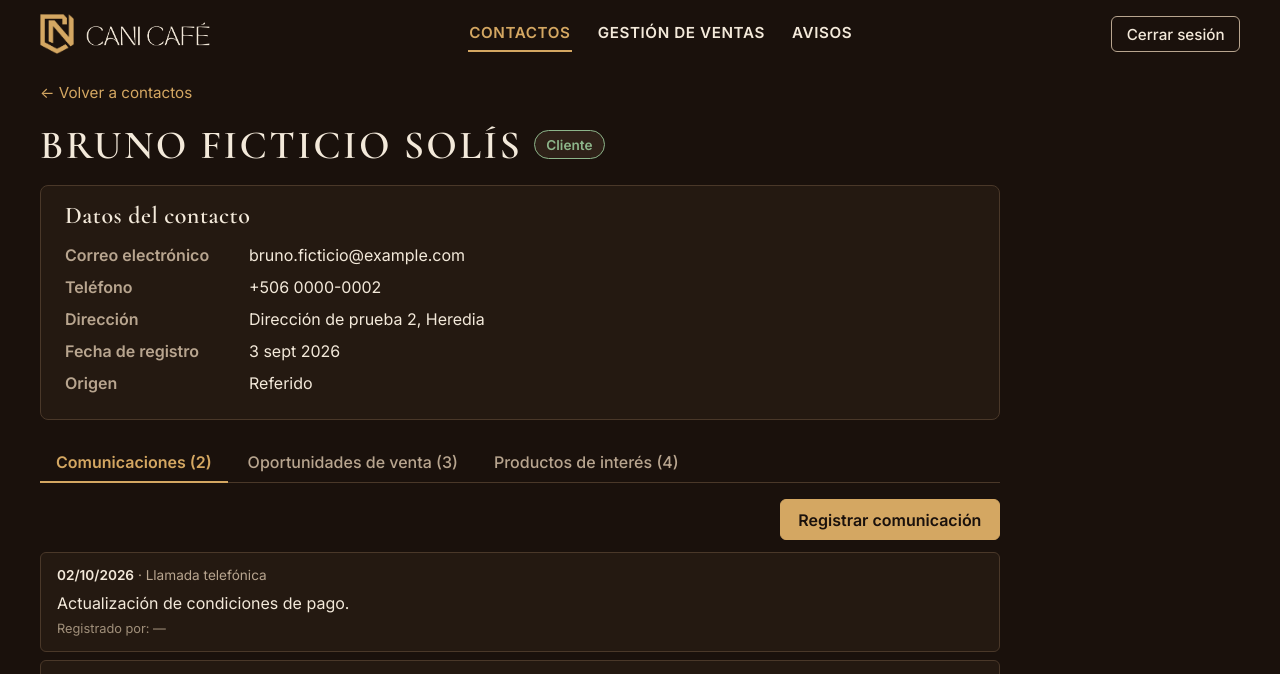
HU-207 Consultar la ficha de un contacto › criterio 5: al elegir otra pestaña se ven sus registros
Click the tab "Oportunidades de venta (3)" at (353, 463), box left=232, top=444, right=474, bottom=483
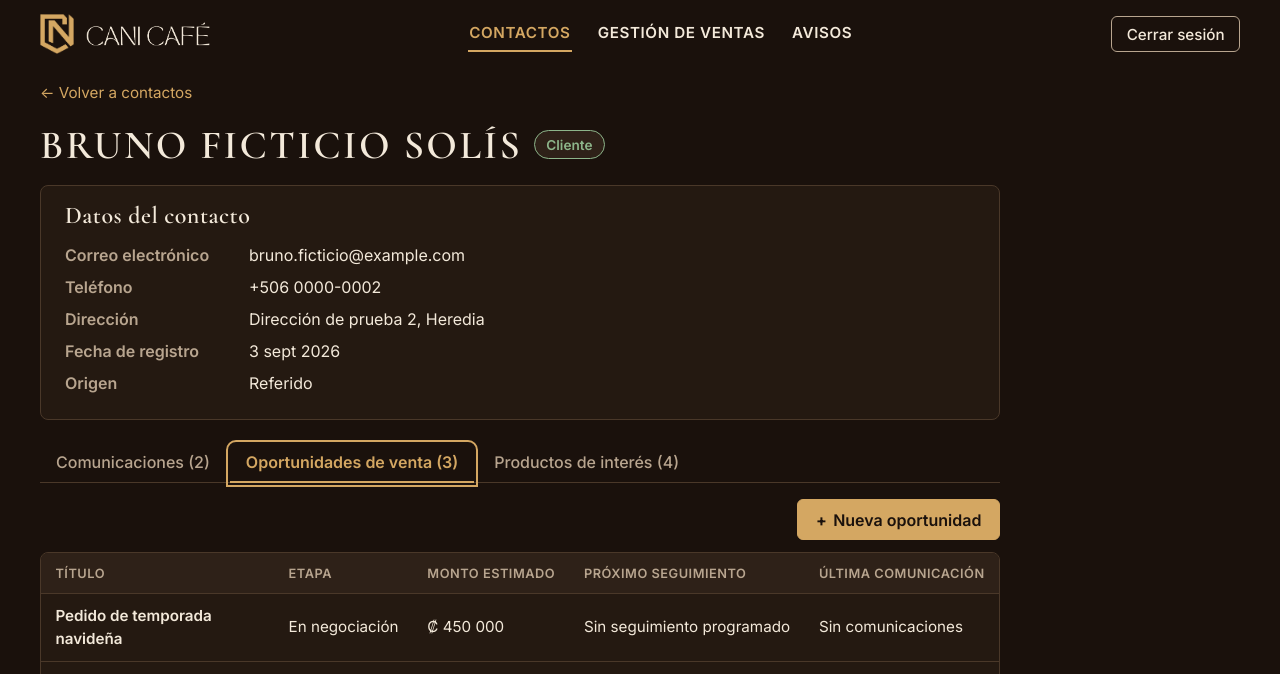
Expected: the tab "Oportunidades de venta (3)" is selected, left=230, top=444, right=474, bottom=483
Click the tab "Productos de interés (4)" at (587, 463), box left=478, top=444, right=695, bottom=483
(page scrolled)
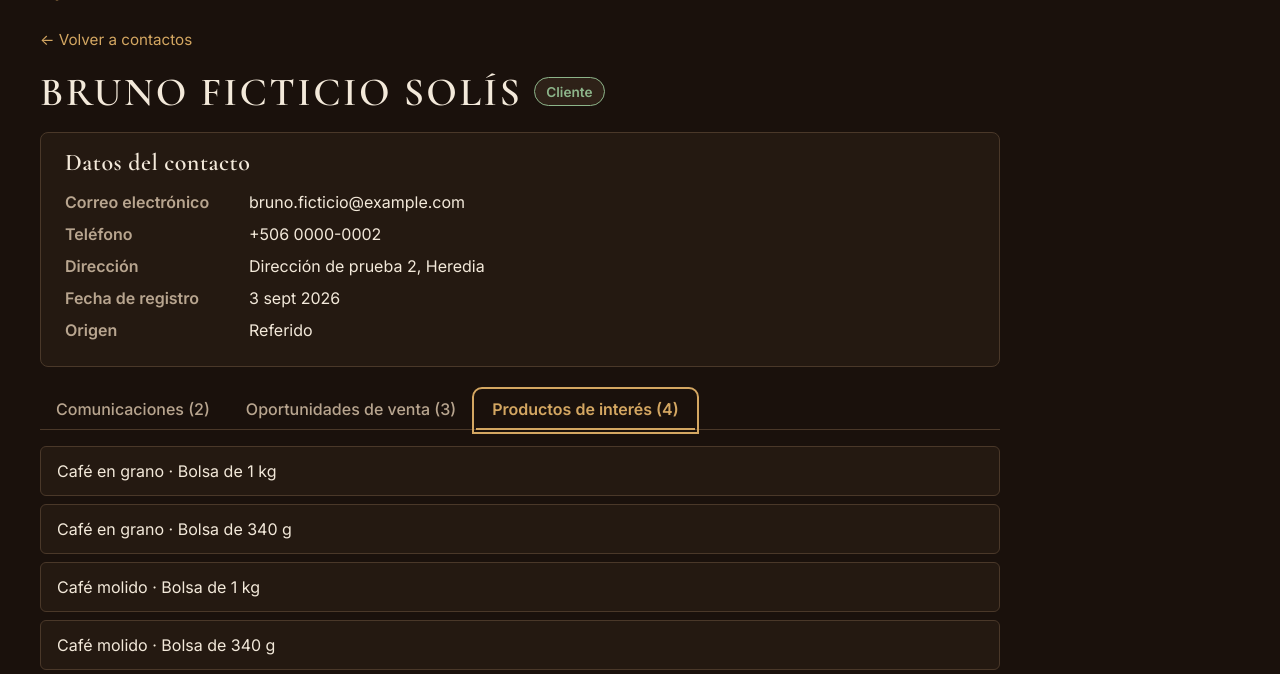
Expected: the list item "Café molido · Bolsa de 340 g" is shown, left=40, top=620, right=1000, bottom=670
